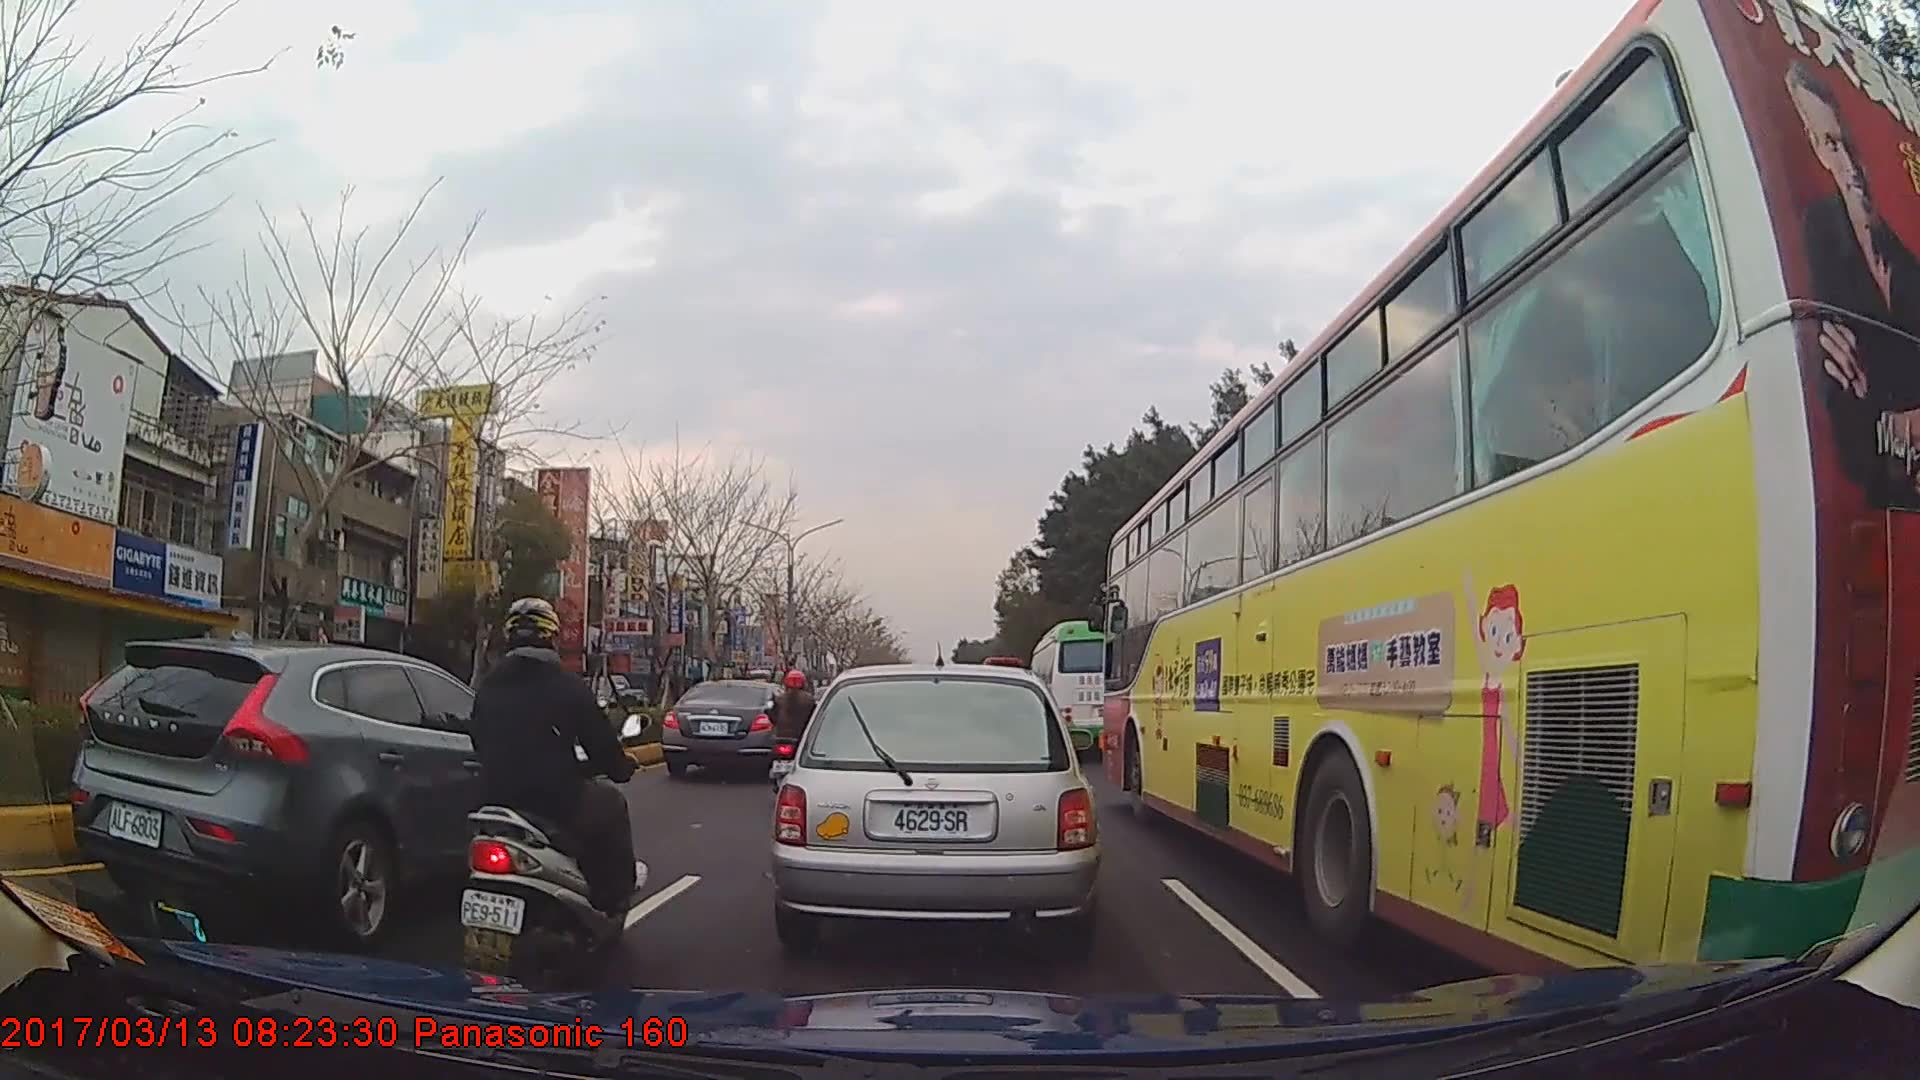rider: (461, 596, 642, 973), (767, 669, 825, 790)
vehicle: (1100, 0, 1920, 1013), (70, 635, 575, 936), (774, 660, 1102, 950), (660, 675, 801, 781), (1025, 618, 1133, 754), (547, 673, 644, 732)
